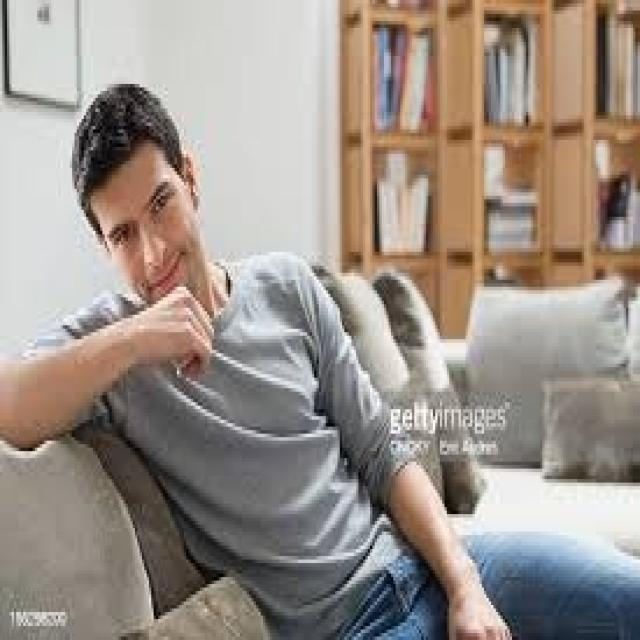sit: (52, 99, 640, 640)
